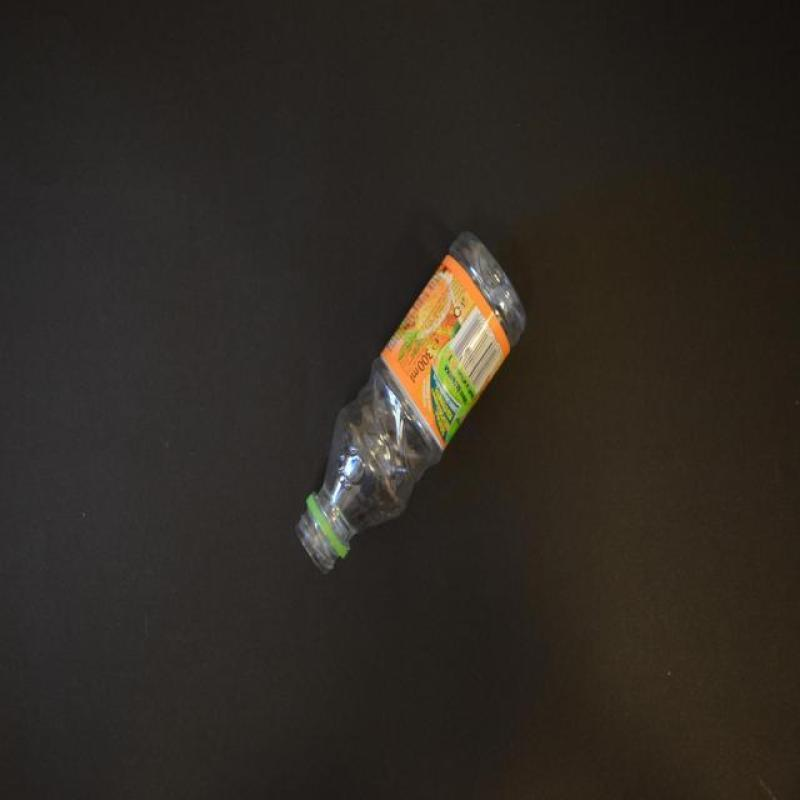botella: (294, 231, 526, 575)
